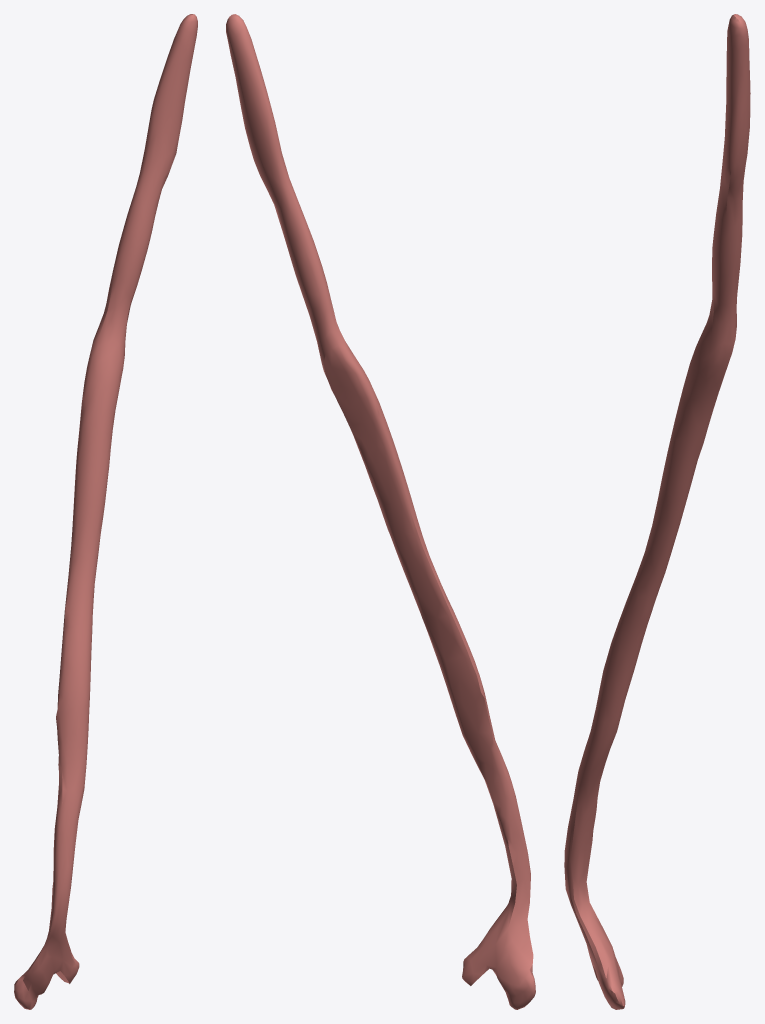
File: fma63250_mm1963.glb
3 views of the same model, side by side, from view 1: azimuth 30°, elevation 25°; view 2: azimuth 150°, elevation 25°; view 3: azimuth 270°, elevation 25° (orthographic). The views are drawn at different scales.
Parts seen in each view (by area): view 1: FMA63250_MM1963; view 2: FMA63250_MM1963; view 3: FMA63250_MM1963.
Part boxes in pixels (left/top/right/bottom): FMA63250_MM1963: left=14, top=14, right=197, bottom=1009; FMA63250_MM1963: left=226, top=14, right=535, bottom=1009; FMA63250_MM1963: left=564, top=14, right=750, bottom=1009.
Size of the model in its own units: 0.0448 by 0.1658 by 0.025.
